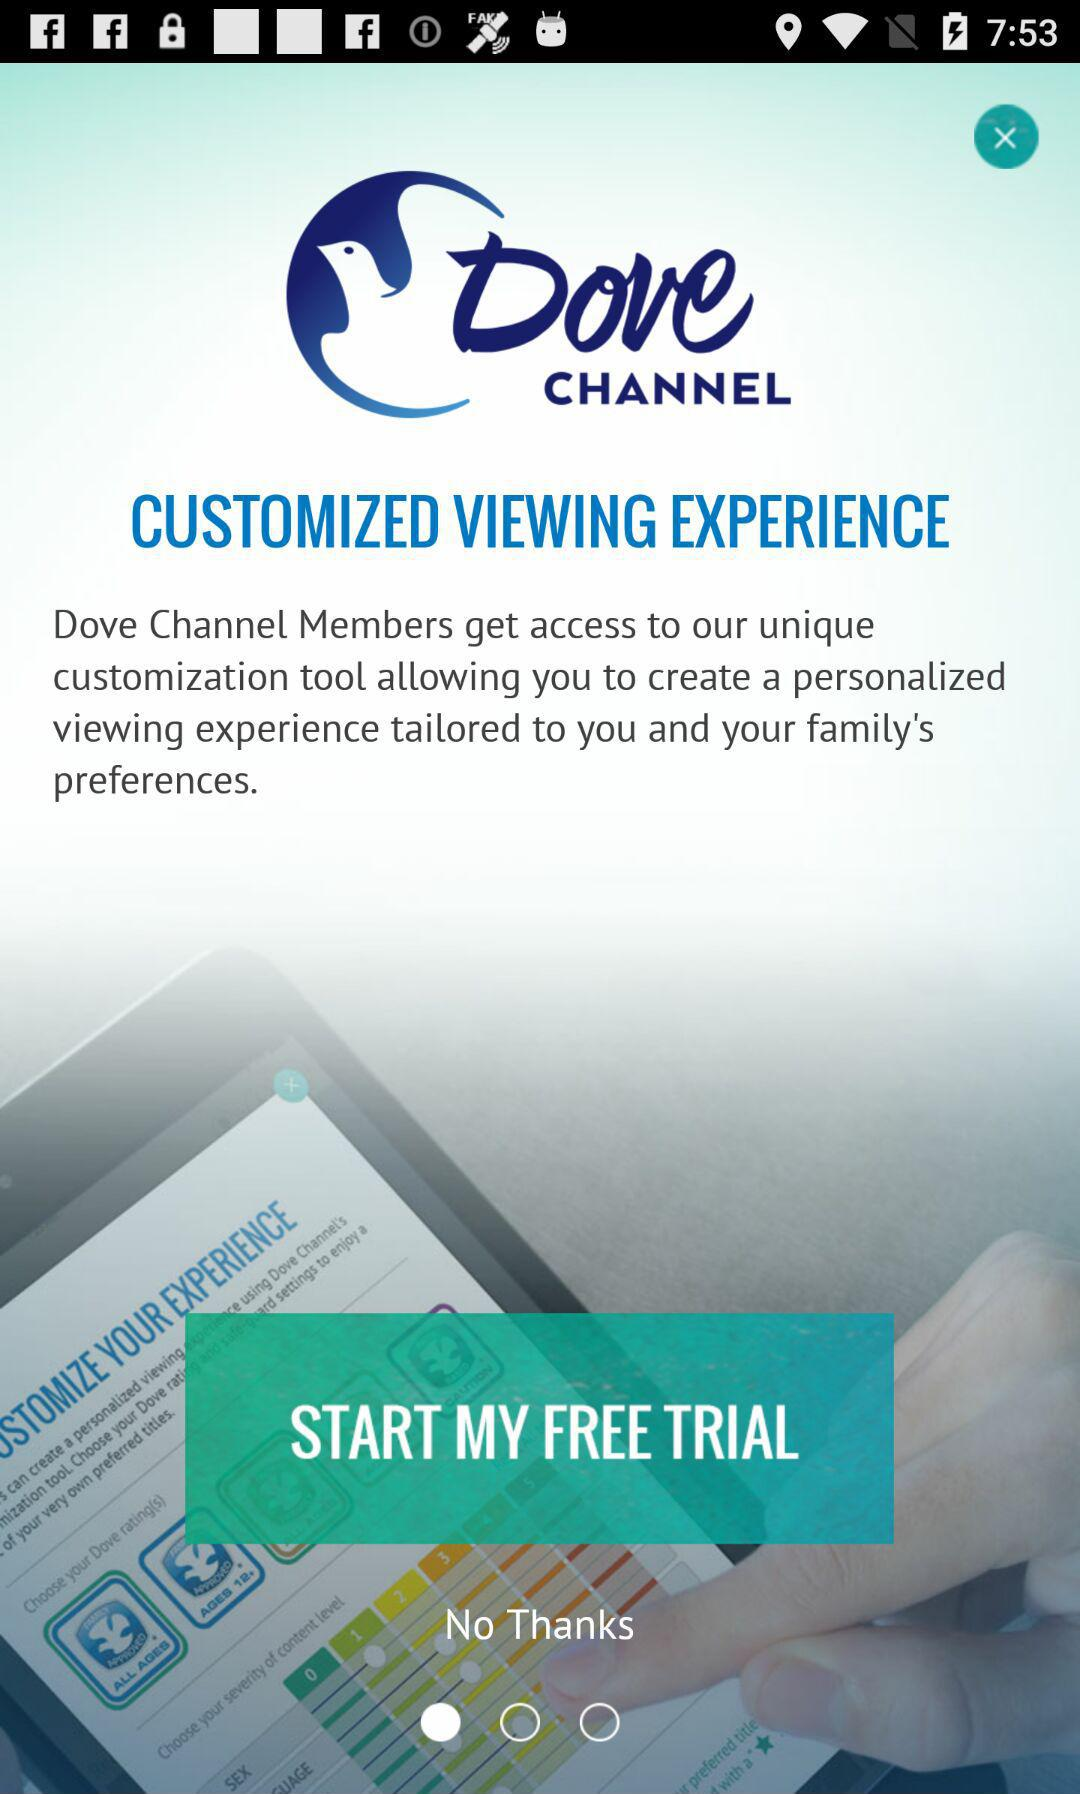BackgroundImage: (1, 64, 1080, 1794)
Icon: (970, 103, 1043, 172)
Image: (286, 170, 793, 422)
PageIndicator: (418, 1700, 623, 1745)
Text: (51, 607, 1006, 805), (129, 493, 953, 551), (446, 1607, 635, 1642)
TextButton: (184, 1313, 896, 1545)
UpperTaskBar: (1, 1, 1080, 64)
